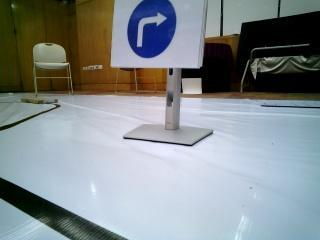right: (115, 0, 191, 61)
